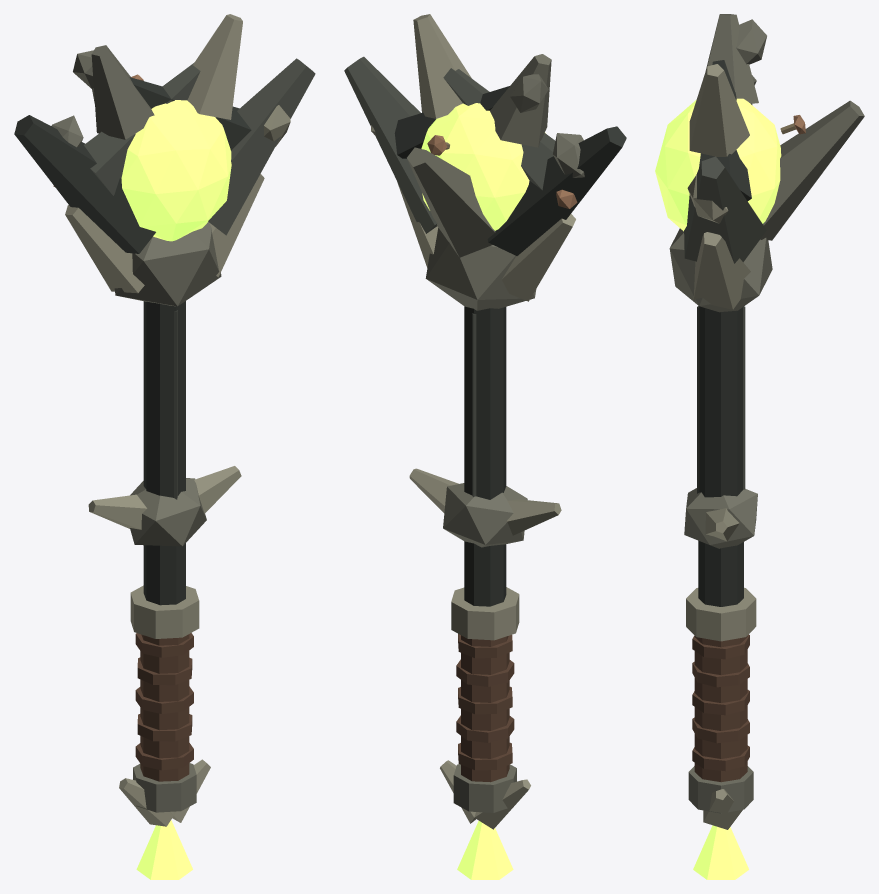
The model's file is SporeboundScepter.fbx.
3 views of the same model, side by side, from view 1: azimuth 30°, elevation 25°; view 2: azimuth 150°, elevation 25°; view 3: azimuth 270°, elevation 25° (orthographic).
Parts seen in each view (by area): view 1: Blight_Spore_Core, Main_Shaft, Head_Cage_Left, Head_Cage_Right, Head_Socket, Grip_Core, Head_Crown_R, Head_Crown_L, Shaft_Knot, Head_Base_Claw_L, Grip_Upper_Collar, Head_Brace_L (+14 smaller); view 2: Main_Shaft, Blight_Spore_Core, Head_Cage_Left, Head_Cage_Back, Head_Cage_Right, Head_Socket, Grip_Core, Shaft_Knot, Head_Crown_R, Head_Crown_L, Grip_Upper_Collar, Head_Base_Claw_L (+16 smaller); view 3: Main_Shaft, Blight_Spore_Core, Head_Cage_Back, Head_Cage_Right, Grip_Core, Head_Crown_R, Head_Base_Claw_R, Shaft_Knot, Head_Socket, Grip_Upper_Collar, Head_Crown_L, Pommel_Blight_Tip (+12 smaller).
Boxes of the visible parts, box(x1,y1,x2,y2) form: Blight_Spore_Core: box(121, 100, 231, 241); Main_Shaft: box(143, 301, 185, 605); Head_Cage_Left: box(14, 115, 155, 253); Head_Cage_Right: box(208, 58, 315, 235); Head_Socket: box(114, 222, 221, 306); Grip_Core: box(140, 634, 189, 781); Head_Crown_R: box(187, 14, 242, 119); Head_Crown_L: box(91, 45, 154, 139); Shaft_Knot: box(130, 478, 206, 546); Head_Base_Claw_L: box(65, 205, 144, 293); Grip_Upper_Collar: box(130, 585, 199, 638); Head_Brace_L: box(84, 62, 200, 195); Main_Shaft: box(464, 306, 506, 606); Blight_Spore_Core: box(421, 103, 545, 230); Head_Cage_Left: box(487, 126, 626, 255); Head_Cage_Back: box(407, 147, 495, 257); Head_Cage_Right: box(344, 56, 436, 233); Head_Socket: box(425, 228, 536, 310); Grip_Core: box(461, 635, 509, 782); Shaft_Knot: box(443, 483, 527, 547); Head_Crown_R: box(413, 14, 471, 118); Head_Crown_L: box(490, 54, 551, 147); Grip_Upper_Collar: box(451, 587, 519, 640); Head_Base_Claw_L: box(501, 214, 575, 301); Main_Shaft: box(698, 306, 743, 606); Blight_Spore_Core: box(655, 98, 781, 231); Head_Cage_Back: box(760, 100, 864, 240); Head_Cage_Right: box(684, 156, 766, 263); Grip_Core: box(694, 636, 747, 782); Head_Crown_R: box(689, 64, 749, 156); Head_Base_Claw_R: box(693, 232, 750, 309); Shaft_Knot: box(684, 488, 757, 548); Head_Socket: box(669, 228, 772, 312); Grip_Upper_Collar: box(686, 587, 756, 641); Head_Crown_L: box(706, 14, 758, 103); Pommel_Blight_Tip: box(693, 825, 748, 879).
Size of the model in its own units: 37.53 by 105 by 23.82.
